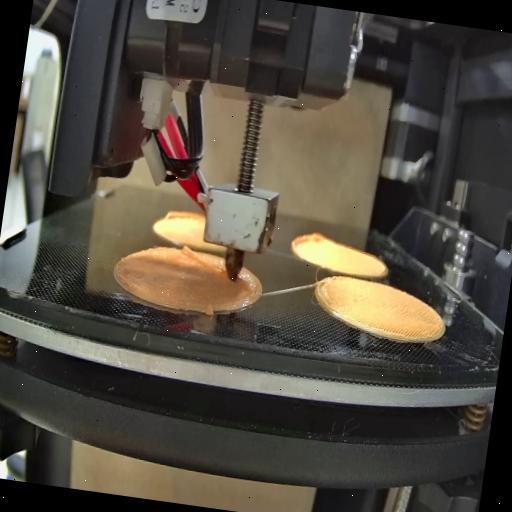over_extrusion: (177, 243, 228, 279), (288, 227, 323, 264), (164, 206, 202, 228), (233, 273, 256, 298)
